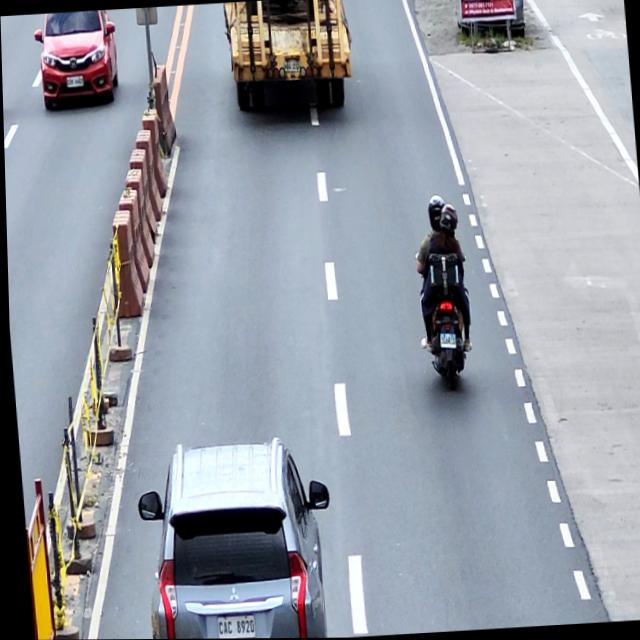Car: (129, 433, 336, 639), (32, 10, 121, 111)
License-Plate: (212, 615, 252, 639), (438, 333, 454, 349), (282, 61, 302, 72), (66, 77, 84, 88)
Motorcycle: (413, 247, 476, 393)
Truck: (222, 0, 356, 115)
